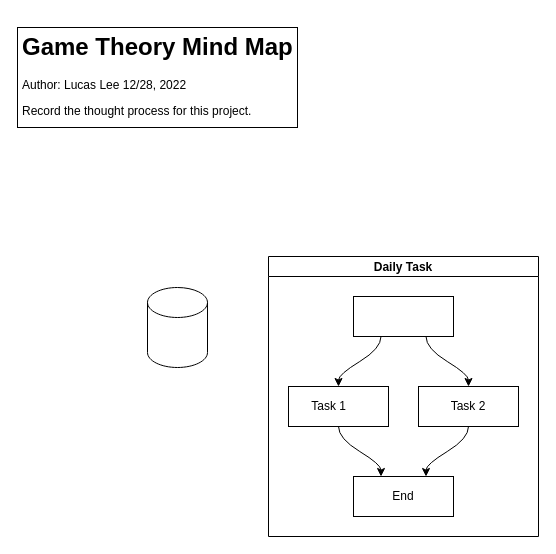
The diagram is 556 pixels wide and 554 high, and some of its shapes have lost their labels. Here are the shapes that lost their labels. From the top down, the centre of each, then its label:
At [177,327]: "main".
At [403,316]: "Start".
